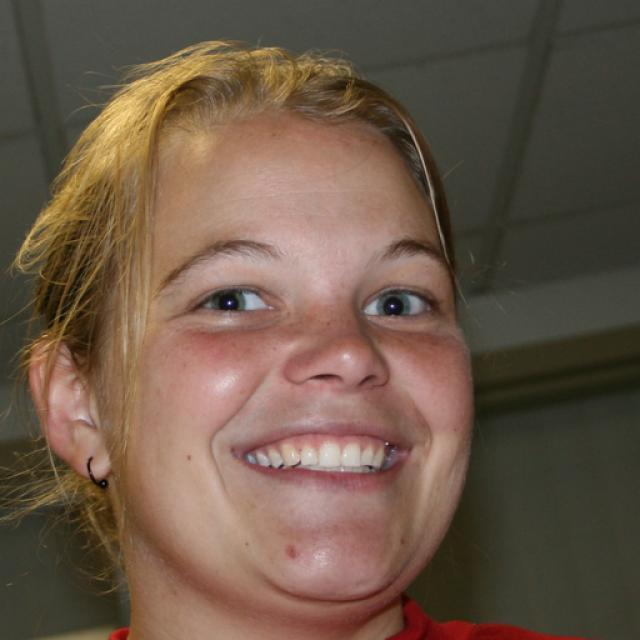happy: (110, 122, 476, 608)
